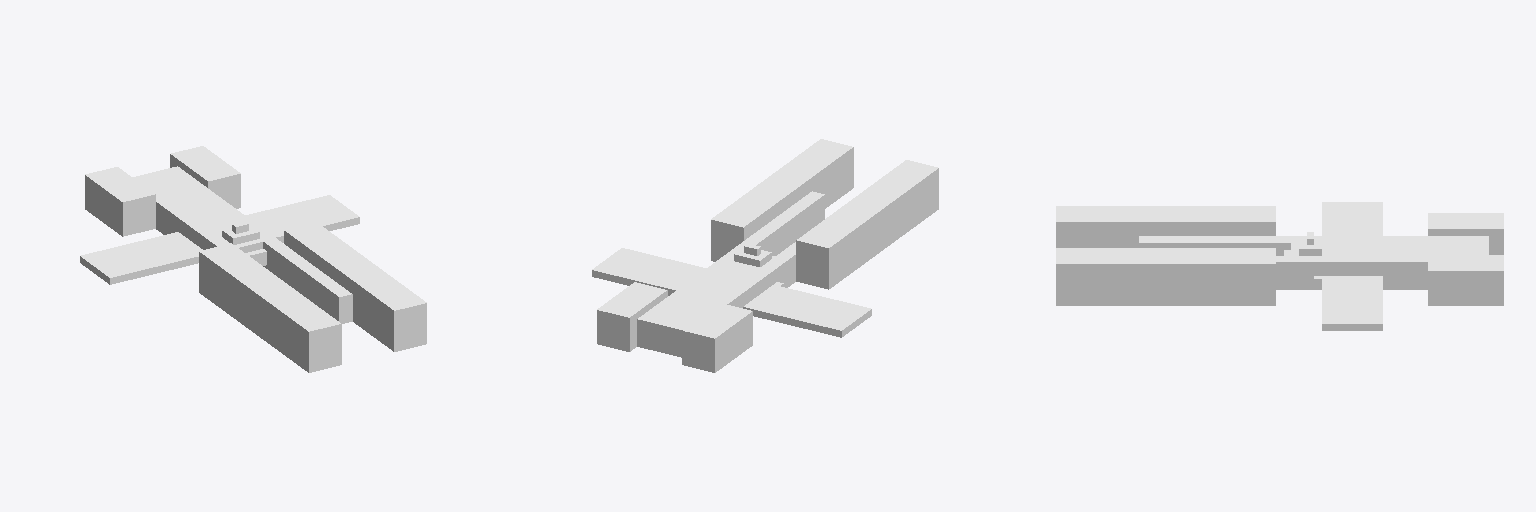
Rendered from pegasasu1.obj.
3 renders of one model, left to right at view 1: azimuth 30°, elevation 25°; view 2: azimuth 150°, elevation 25°; view 3: azimuth 270°, elevation 25°, orthographic.
Parts seen in each view (by area): view 1: pegasasu1; view 2: pegasasu1; view 3: pegasasu1.
Part boxes in pixels (bbox=[...]): pegasasu1: bbox=[80, 146, 426, 372]; pegasasu1: bbox=[592, 139, 938, 372]; pegasasu1: bbox=[1056, 202, 1503, 330].
Size of the model in its own units: 38 by 6 by 59.